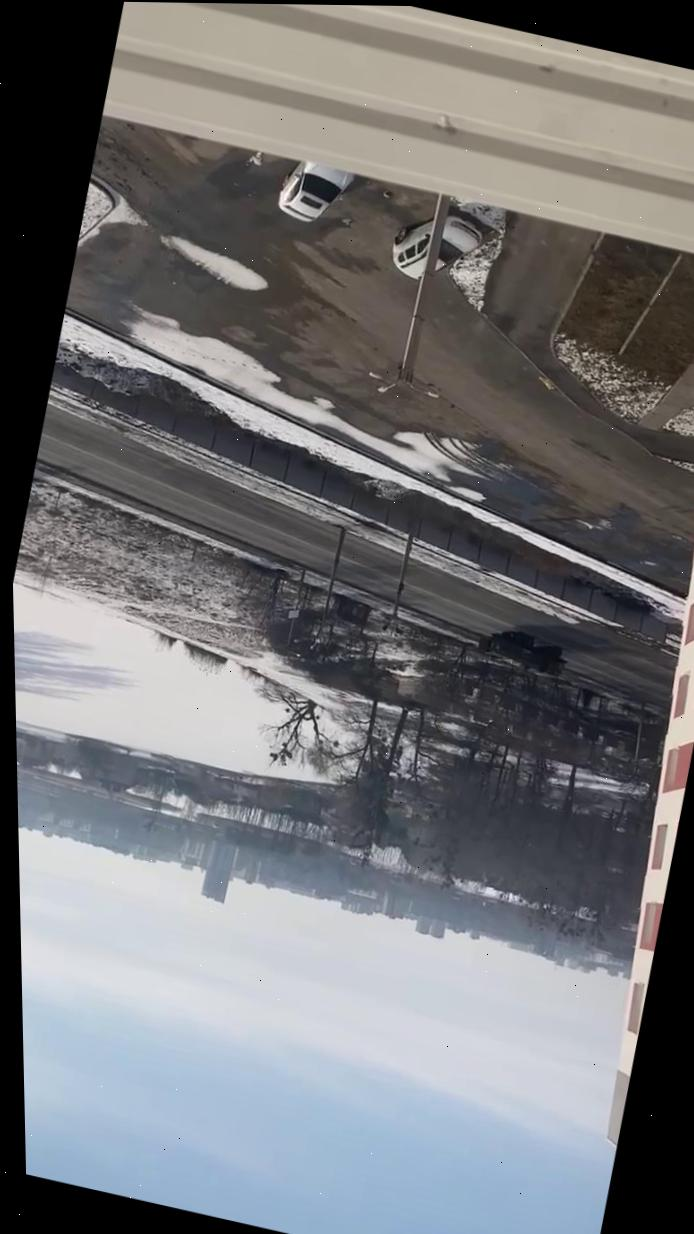car: (383, 199, 488, 293), (273, 157, 356, 232)
truck: (483, 624, 571, 682)
